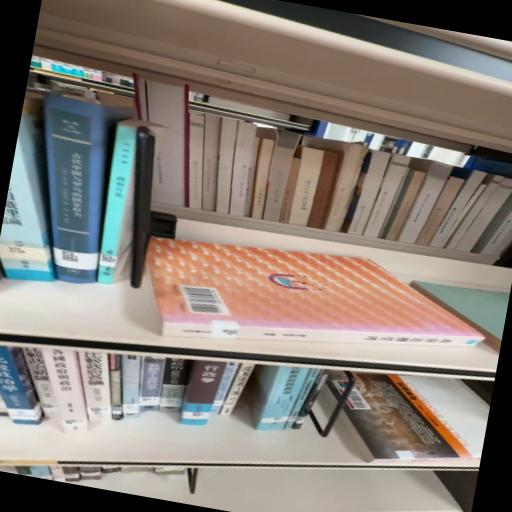flat: (147, 237, 484, 349), (344, 373, 490, 467)
